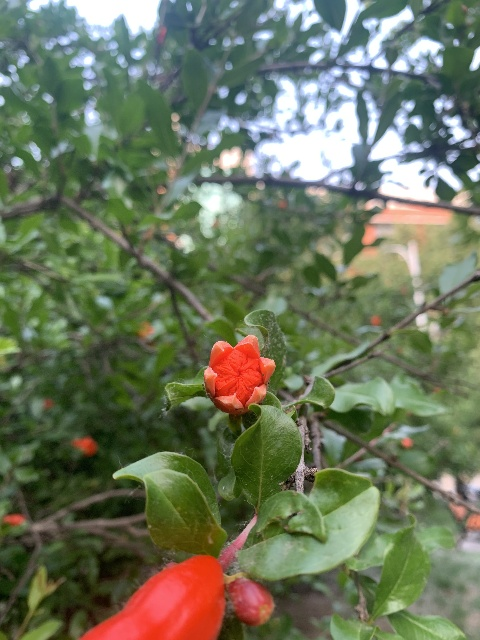bud: (226, 576, 273, 626)
flower: (203, 333, 275, 413)
